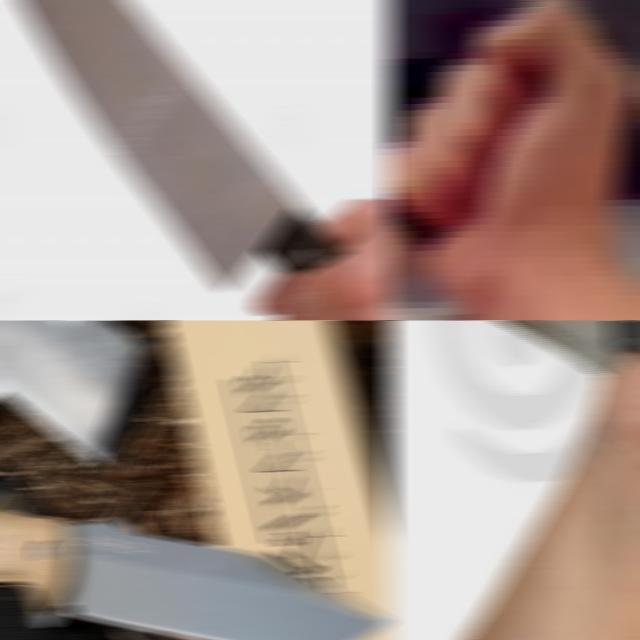Knife: (18, 0, 346, 289)
Knife_Handle: (0, 0, 394, 320), (386, 0, 634, 320)
